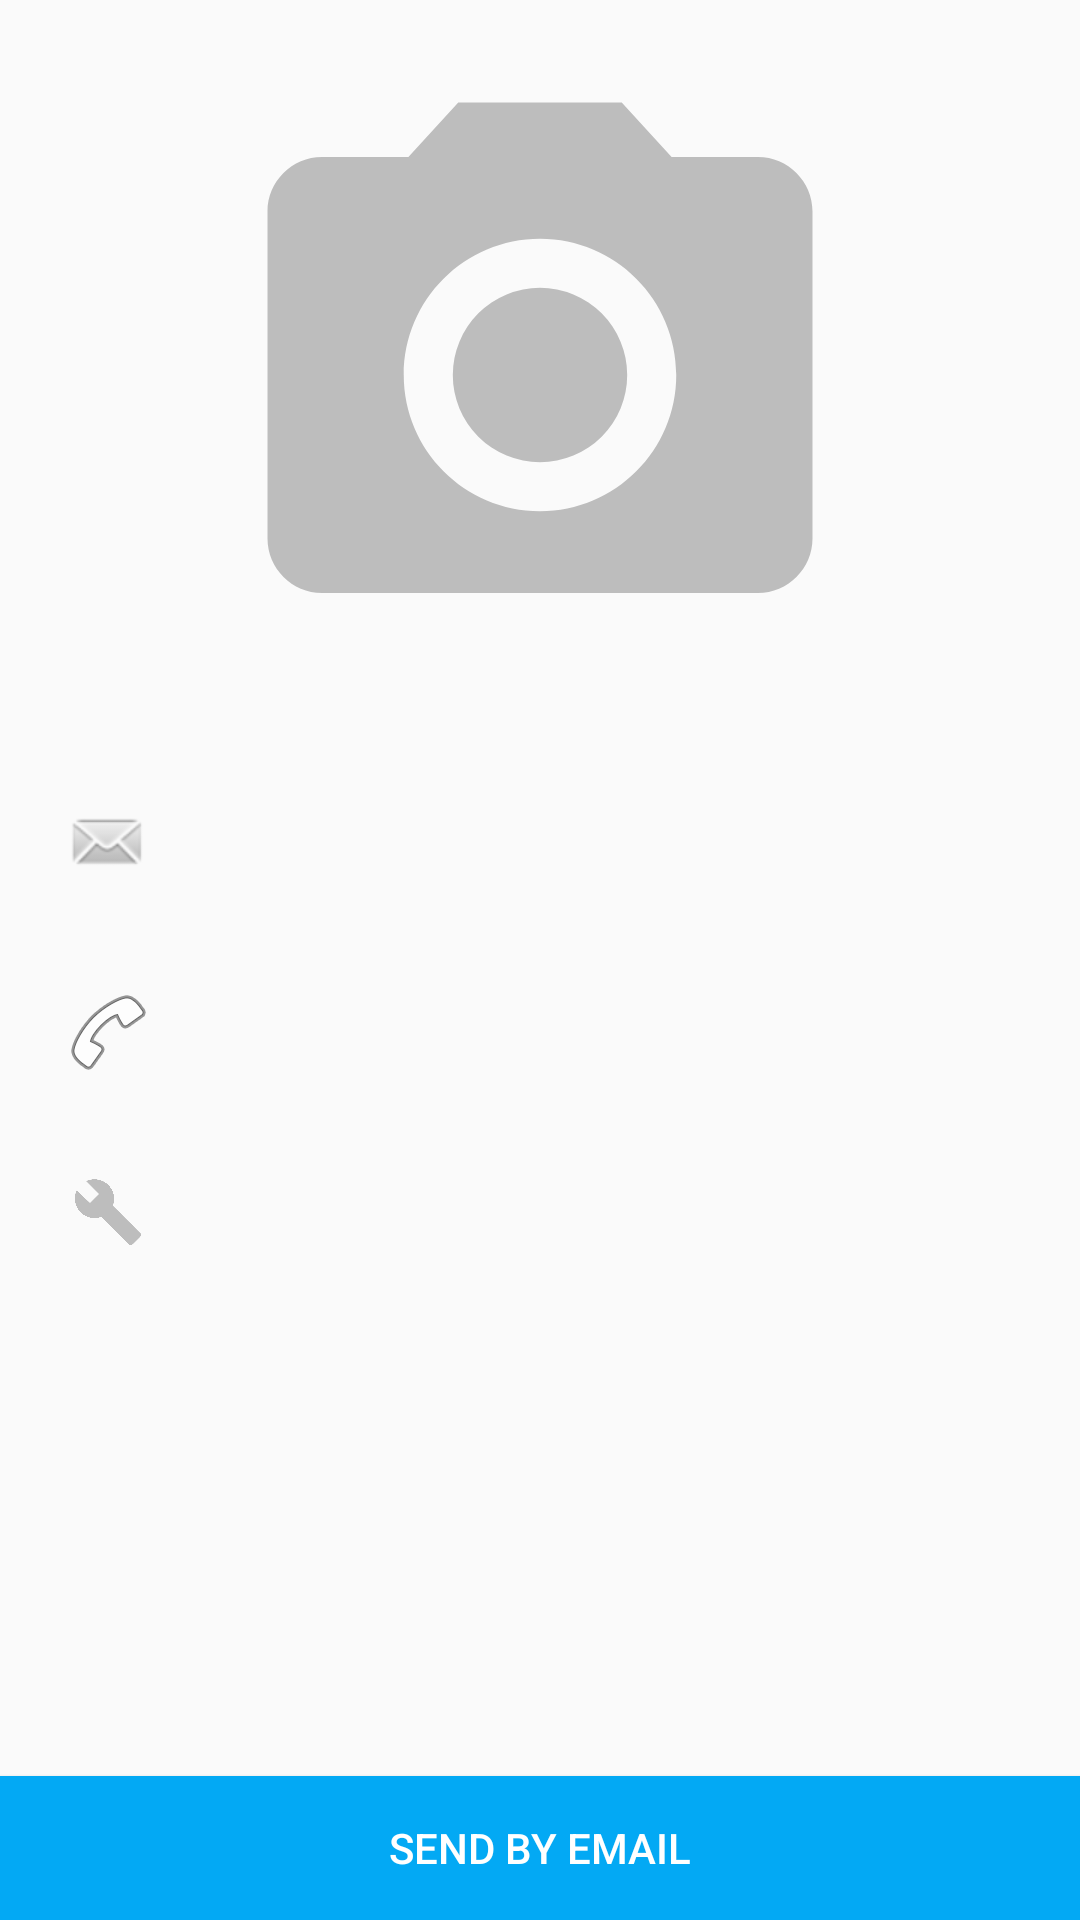

Named icons in this screenshot (1080w x 1920h) and their bounding boxes, (x1, y1, x2, y2):
call: (71, 995, 146, 1070)
sym action email: (73, 819, 141, 864)
